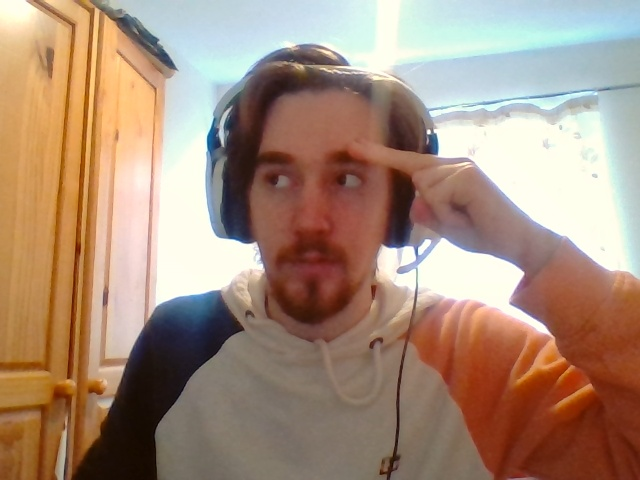name: (347, 138, 480, 236)
